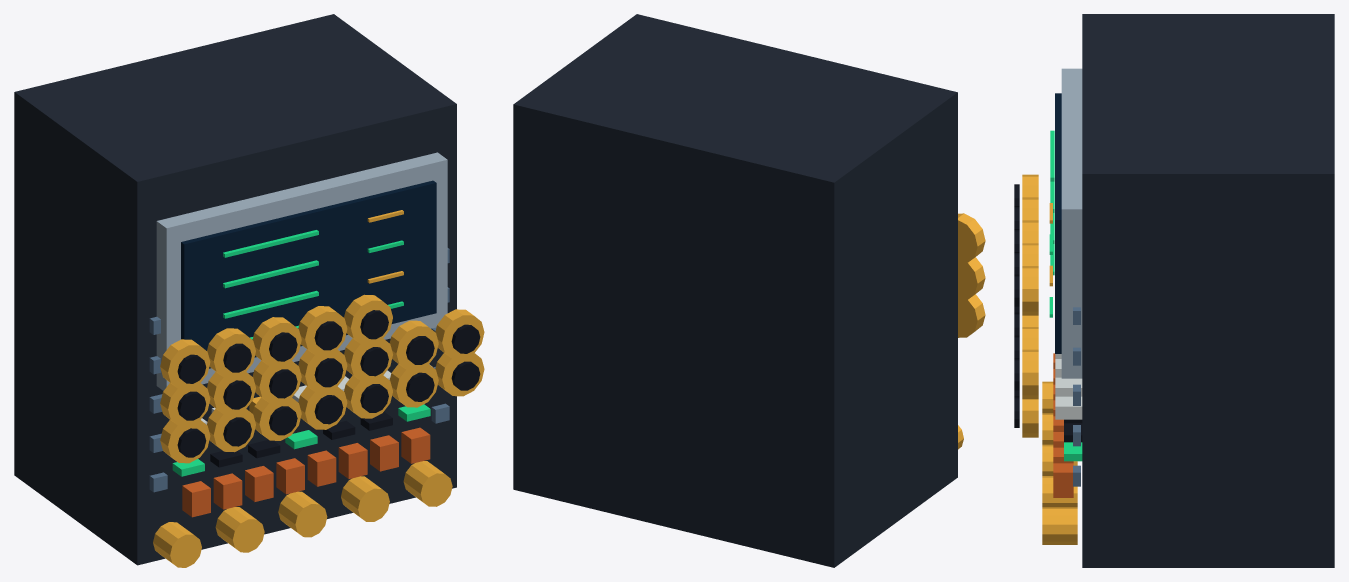
File: 72_L86_SevenAxisJointServoController.fbx
3 views of the same model, side by side, from view 1: azimuth 30°, elevation 25°; view 2: azimuth 150°, elevation 25°; view 3: azimuth 270°, elevation 25° (orthographic). The views are drawn at different scales.
Parts seen in each view (by area): view 1: L86_SevenAxisJointServoController, L86_SevenAxisJointServoController_Part_0035, L86_SevenAxisJointServoController_Part_0037, L86_SevenAxisJointServoController_Part_0033, L86_SevenAxisJointServoController_Part_0039, L86_SevenAxisJointServoController_Part_0043, L86_SevenAxisJointServoController_Part_0045, L86_SevenAxisJointServoController_Part_0041, L86_SevenAxisJointServoController_Part_0009, L86_SevenAxisJointServoController_Part_0011, L86_SevenAxisJointServoController_Part_0013, L86_SevenAxisJointServoController_Part_0017 (+27 smaller); view 2: L86_SevenAxisJointServoController, L86_SevenAxisJointServoController_Part_0037, L86_SevenAxisJointServoController_Part_0009, L86_SevenAxisJointServoController_Part_0023; view 3: L86_SevenAxisJointServoController, L86_SevenAxisJointServoController_Part_0035, L86_SevenAxisJointServoController_Part_0045, L86_SevenAxisJointServoController_Part_0021, L86_SevenAxisJointServoController_Part_0037, L86_SevenAxisJointServoController_Part_0039, L86_SevenAxisJointServoController_Part_0041.
Boxes of the visible parts, x1,y1,x2,y2 form: L86_SevenAxisJointServoController: (14, 14, 456, 567); L86_SevenAxisJointServoController_Part_0035: (435, 309, 484, 359); L86_SevenAxisJointServoController_Part_0037: (160, 339, 210, 389); L86_SevenAxisJointServoController_Part_0033: (389, 320, 438, 370); L86_SevenAxisJointServoController_Part_0039: (207, 328, 255, 378); L86_SevenAxisJointServoController_Part_0043: (298, 306, 347, 355); L86_SevenAxisJointServoController_Part_0045: (344, 294, 392, 344); L86_SevenAxisJointServoController_Part_0041: (252, 317, 301, 366); L86_SevenAxisJointServoController_Part_0009: (160, 419, 210, 463); L86_SevenAxisJointServoController_Part_0011: (207, 408, 255, 452); L86_SevenAxisJointServoController_Part_0013: (252, 397, 301, 440); L86_SevenAxisJointServoController_Part_0017: (344, 374, 392, 418); L86_SevenAxisJointServoController: (513, 14, 963, 567); L86_SevenAxisJointServoController_Part_0037: (958, 213, 985, 263); L86_SevenAxisJointServoController_Part_0009: (958, 294, 985, 337); L86_SevenAxisJointServoController_Part_0023: (958, 257, 985, 300); L86_SevenAxisJointServoController: (1042, 14, 1334, 567); L86_SevenAxisJointServoController_Part_0035: (1022, 349, 1038, 399); L86_SevenAxisJointServoController_Part_0045: (1022, 266, 1038, 315); L86_SevenAxisJointServoController_Part_0021: (1022, 399, 1038, 437); L86_SevenAxisJointServoController_Part_0037: (1022, 174, 1038, 197); L86_SevenAxisJointServoController_Part_0039: (1022, 197, 1038, 220); L86_SevenAxisJointServoController_Part_0041: (1022, 220, 1038, 243).
Size of the model in its own units: 97.92 by 112 by 82.84.
